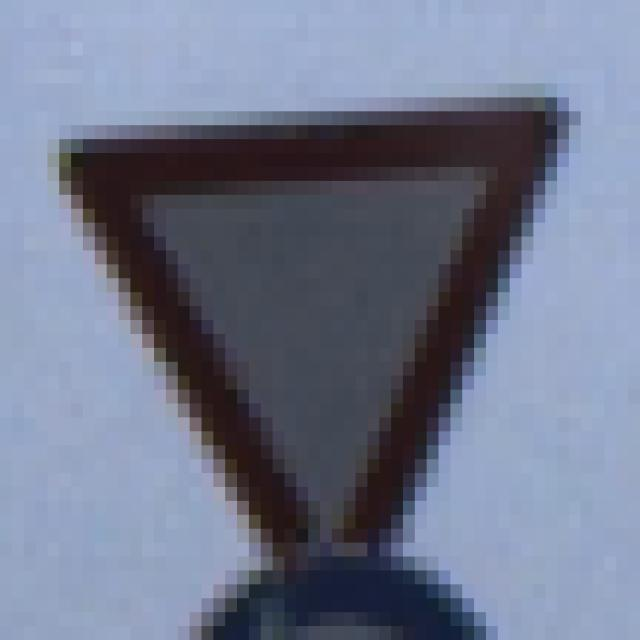Give Way: (60, 71, 582, 572)
